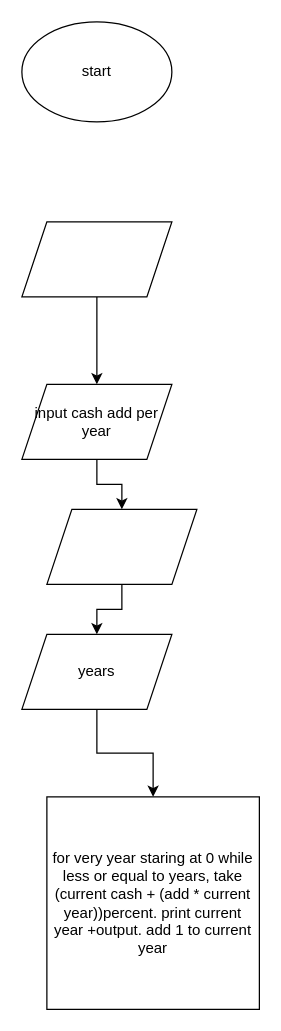
Image size: 281x1031. Some labels were removed from this diagram. The shapes that lost their labels are listed below. From the top down, each one's box as (x1, y1, x2, y2) in pixels, then its label:
(21, 221, 172, 297): input current cash
(46, 508, 197, 584): percent give back
